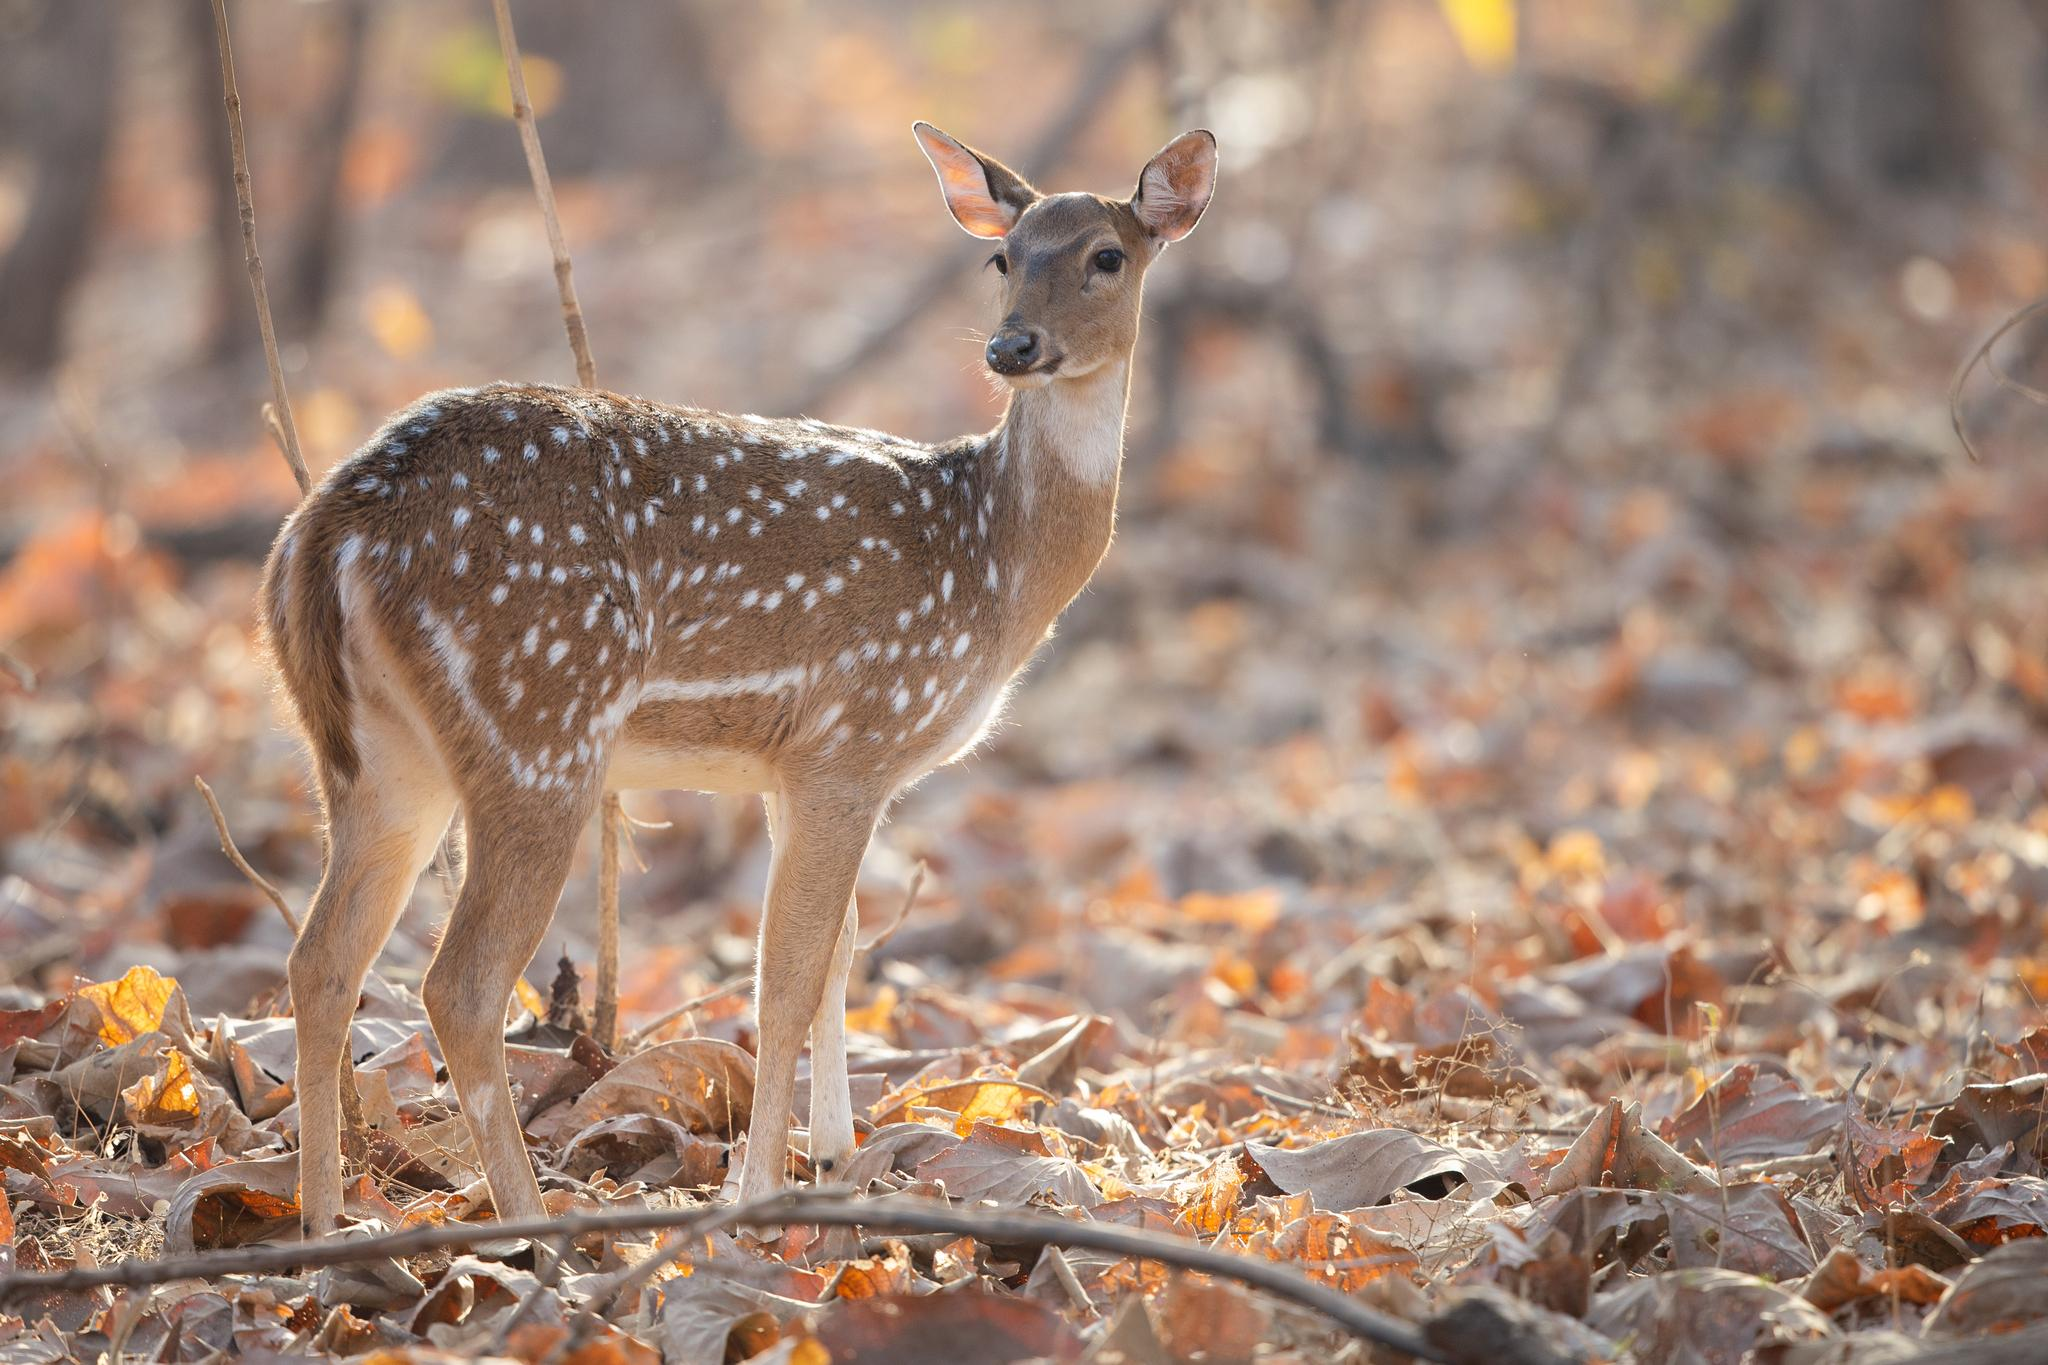Deer: (262, 128, 1215, 1236)
